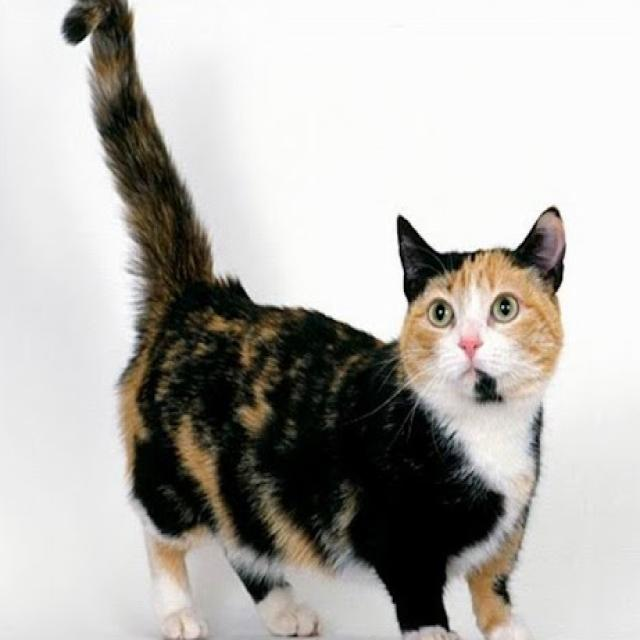Munchkin: (57, 0, 571, 640)
